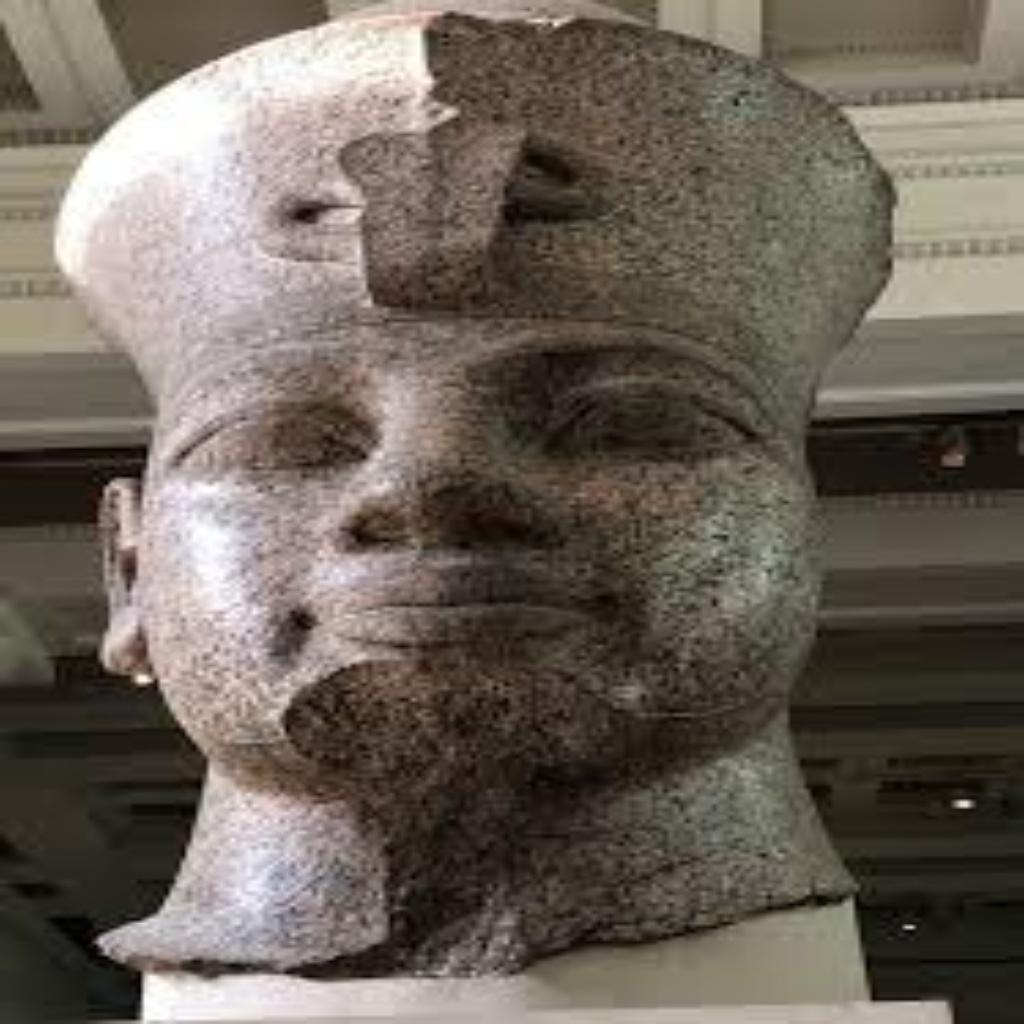Head Statue of Amenhotep iii: (44, 0, 904, 982)
